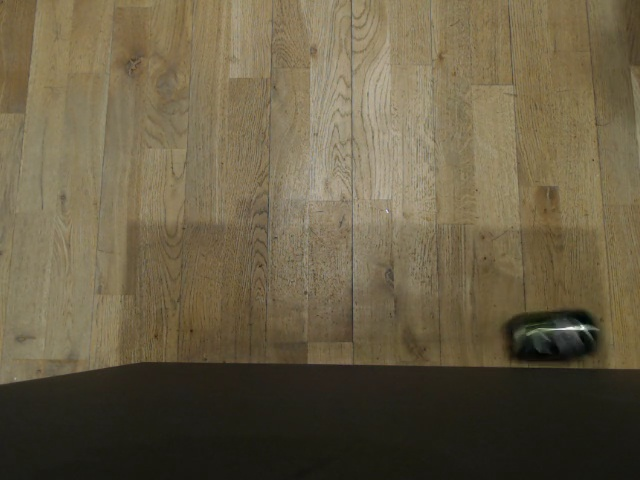beer: (498, 288, 603, 370)
